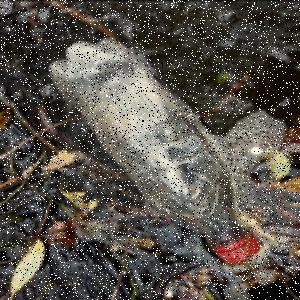Plastic-bottle: (49, 38, 264, 266)
